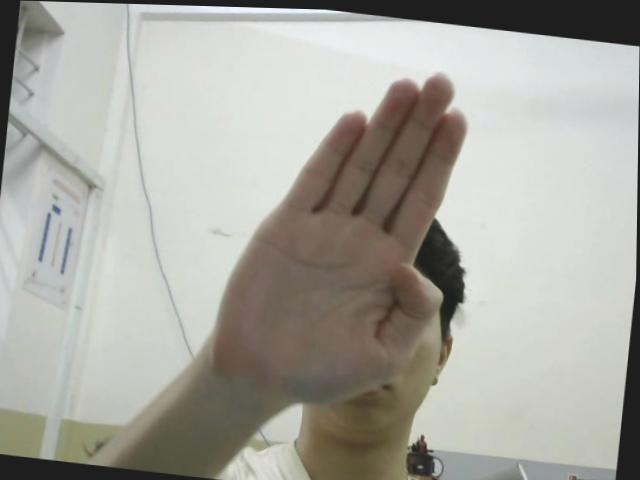B: (209, 44, 473, 414)
